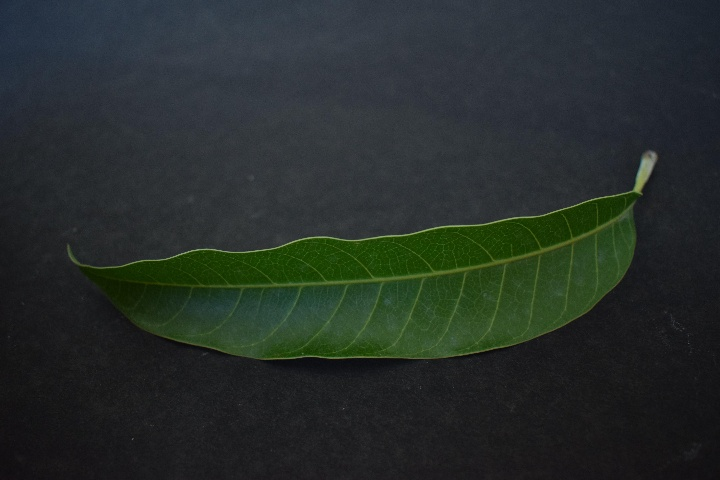healthy: (104, 191, 652, 364)
